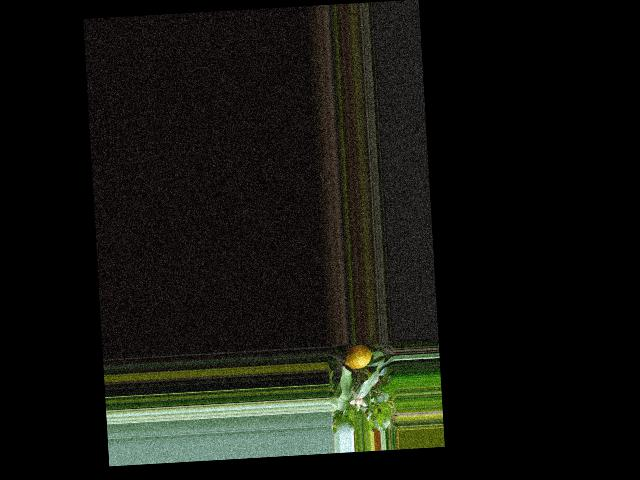lemon: (341, 343, 374, 372)
